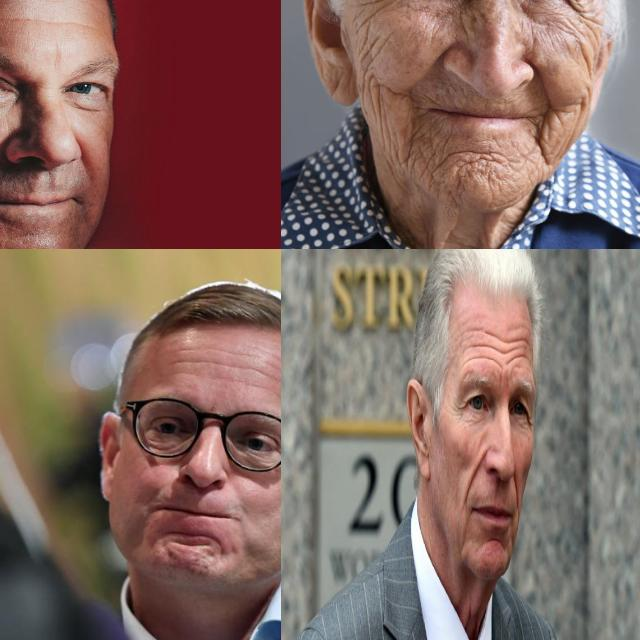bunny_line: (459, 4, 486, 38)
chin: (441, 144, 512, 180), (160, 523, 228, 549), (488, 530, 504, 550)
crows_feet: (567, 0, 597, 42), (357, 0, 411, 14), (524, 401, 535, 437), (454, 397, 465, 421)
forehead: (176, 341, 274, 377), (6, 13, 90, 32), (463, 327, 486, 363), (489, 325, 506, 371), (508, 333, 530, 368)
gummy_smile: (528, 63, 558, 117), (415, 43, 455, 79), (466, 453, 485, 498), (74, 140, 94, 180), (0, 134, 8, 173), (512, 472, 520, 510)
masseter: (361, 38, 391, 128), (572, 36, 602, 86), (572, 86, 592, 130)
sad_smile: (531, 116, 555, 162), (406, 94, 426, 148)
